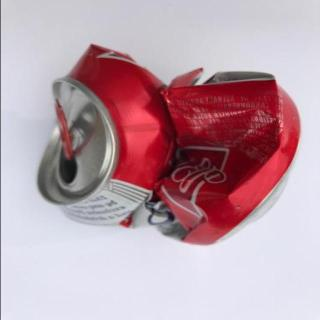Anorganik: (30, 42, 309, 253)
